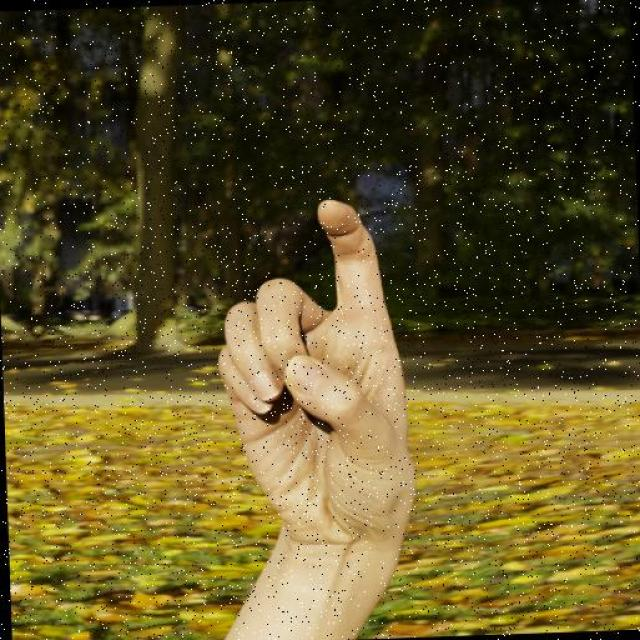X: (214, 181, 436, 630)
